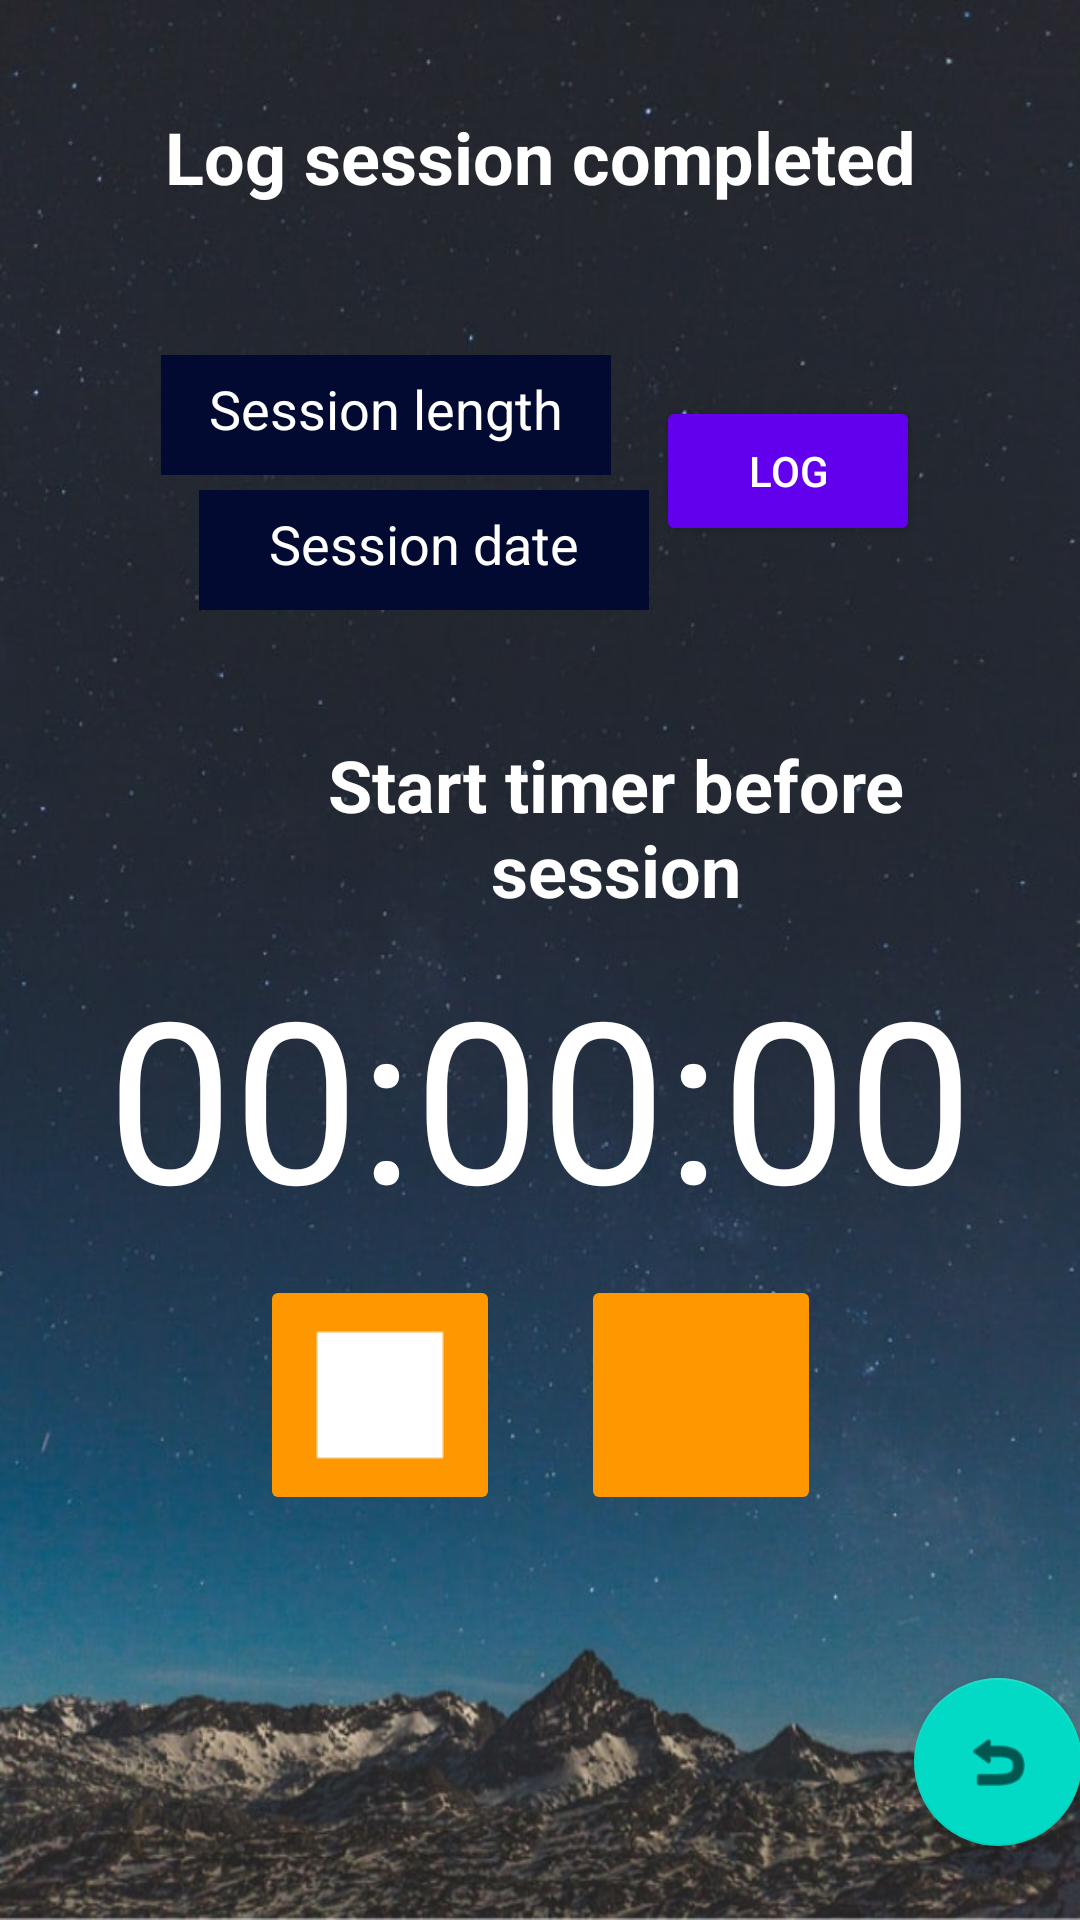

Point at icon controls on the screen. Image size 1080px x 1920px, points as (x,y).
revert: (997,1762)
Stop timer: (380,1399)
